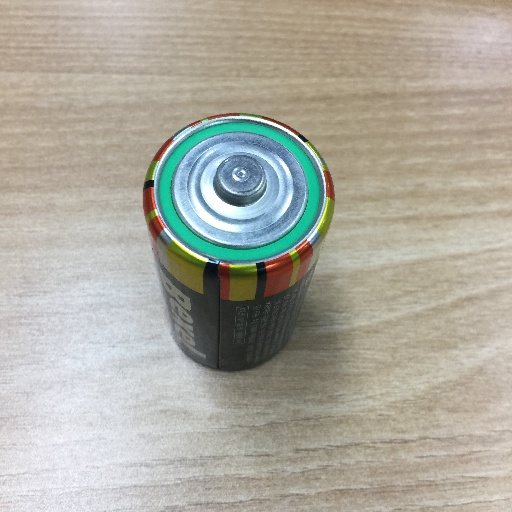Battery_0: (135, 101, 345, 381)
